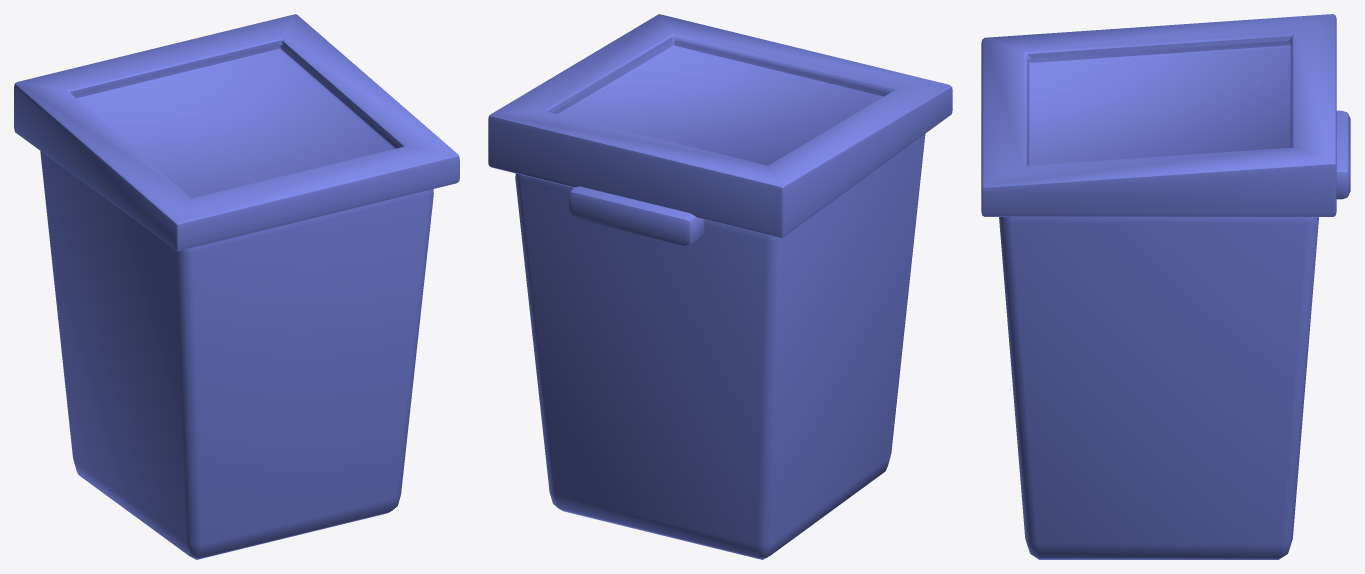
The model's file is trash_holder.glb.
The picture shows the model from 3 angles, left to right: view 1: azimuth 30°, elevation 25°; view 2: azimuth 150°, elevation 25°; view 3: azimuth 270°, elevation 25°; orthographic projection. The views are drawn at different scales.
Visible parts, largest first — view 1: TrashHolder, TrashHolder.001; view 2: TrashHolder, TrashHolder.001, Cube.048; view 3: TrashHolder, TrashHolder.001, Cube.048.
Part boxes in pixels (box(x1,y1,x2,y2)): TrashHolder: box(40, 151, 433, 559); TrashHolder.001: box(14, 14, 459, 251); TrashHolder: box(515, 134, 925, 559); TrashHolder.001: box(488, 14, 952, 238); Cube.048: box(569, 186, 704, 245); TrashHolder: box(999, 217, 1318, 559); TrashHolder.001: box(981, 14, 1336, 216); Cube.048: box(1336, 110, 1350, 199).
Bounding box in the file's own units: 1.2 × 1.56 × 1.24.
